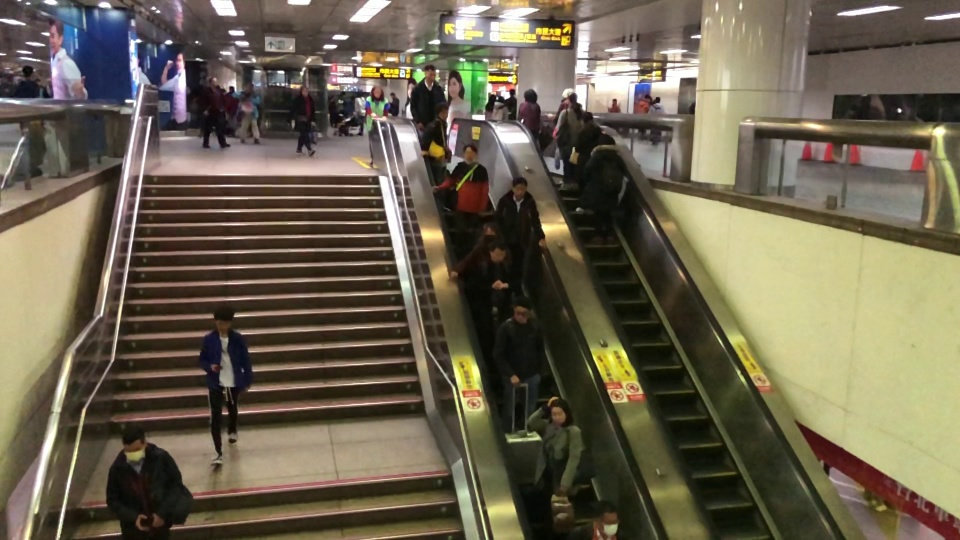person_head: (119, 421, 147, 462), (592, 500, 619, 536), (548, 396, 573, 427), (212, 303, 236, 334), (510, 295, 533, 323), (486, 239, 508, 264), (510, 176, 528, 198), (480, 221, 500, 240), (461, 144, 478, 165), (594, 132, 615, 149), (433, 101, 448, 121), (522, 87, 538, 104), (424, 64, 436, 82), (579, 111, 593, 126), (21, 64, 33, 80), (566, 91, 578, 106), (561, 87, 573, 102), (370, 85, 383, 98), (298, 85, 309, 97), (207, 76, 217, 88), (486, 93, 496, 104), (246, 82, 254, 94), (496, 95, 505, 105), (642, 93, 651, 103), (34, 78, 41, 87), (338, 90, 345, 99), (228, 85, 235, 93), (356, 89, 363, 97), (508, 88, 515, 96), (610, 98, 617, 106), (654, 96, 660, 105), (389, 92, 396, 98), (350, 95, 355, 103)
person_vbox: (103, 421, 185, 540), (198, 303, 253, 466), (526, 395, 584, 540), (456, 240, 523, 361), (492, 294, 545, 433), (431, 144, 489, 262), (493, 175, 547, 289), (583, 132, 625, 246), (449, 221, 512, 278), (572, 111, 603, 212), (553, 91, 583, 189), (565, 500, 630, 540), (409, 64, 448, 130), (196, 76, 231, 149), (420, 101, 450, 186), (364, 85, 390, 166), (289, 84, 316, 157), (14, 64, 39, 136), (236, 81, 261, 145), (517, 87, 541, 144), (647, 96, 665, 147), (634, 93, 651, 144), (552, 87, 573, 125), (224, 84, 239, 136), (353, 88, 365, 136), (606, 98, 621, 134), (490, 95, 508, 120), (504, 88, 517, 121), (328, 90, 345, 113), (483, 93, 496, 122), (34, 78, 50, 99), (388, 92, 399, 116), (345, 95, 355, 112), (687, 99, 695, 115)
